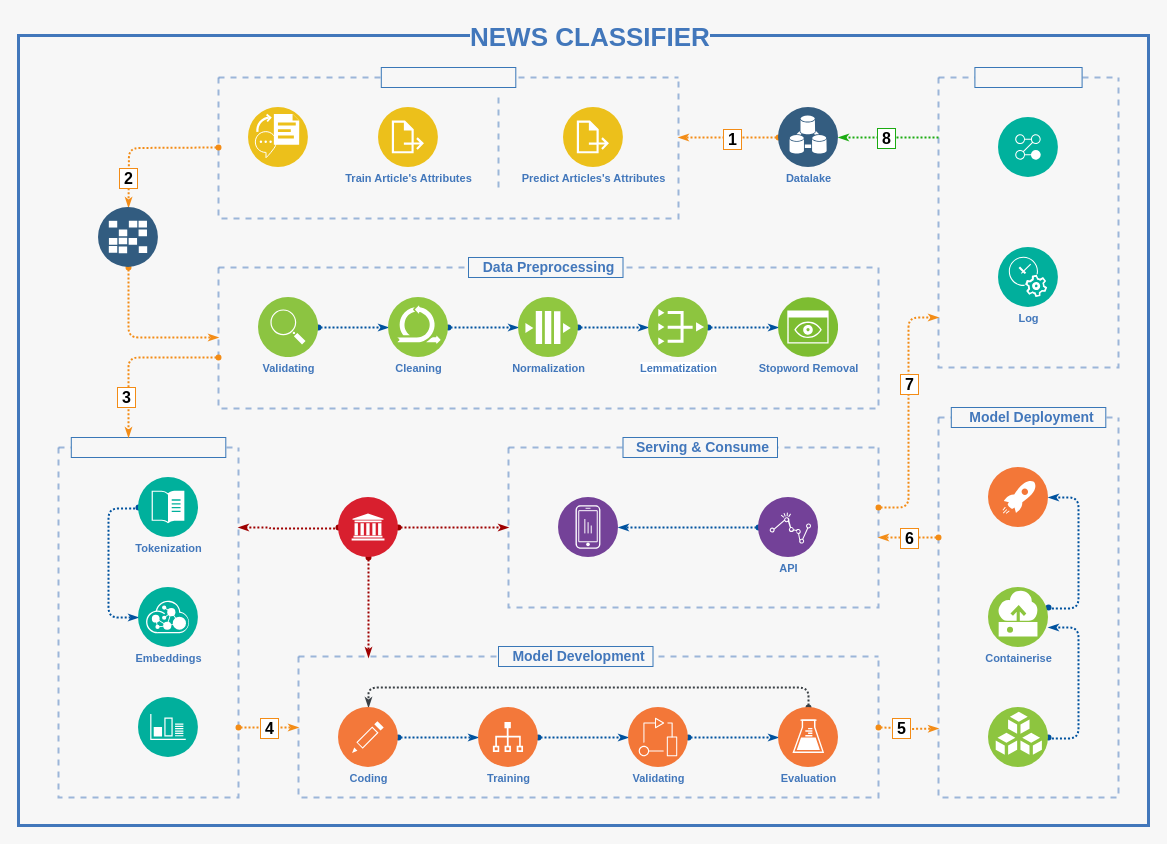
The diagram is 1167 pixels wide and 844 high, and some of its shapes have lost their labels. Each missing label, with the box of its shape:
Applications: (558, 497, 618, 557)
Batch Ingestion: (98, 207, 158, 267)
Data Preparation: (380, 66, 516, 88)
Deploy: (988, 467, 1048, 527)
Feature Engineering: (70, 436, 226, 458)
Label Encoding: (138, 697, 198, 757)
Monitor: (338, 497, 398, 557)
Output & Log: (974, 66, 1082, 88)
Pakage: (988, 707, 1048, 767)
Prediction: (998, 117, 1058, 177)
Train Labels: (248, 107, 308, 167)
